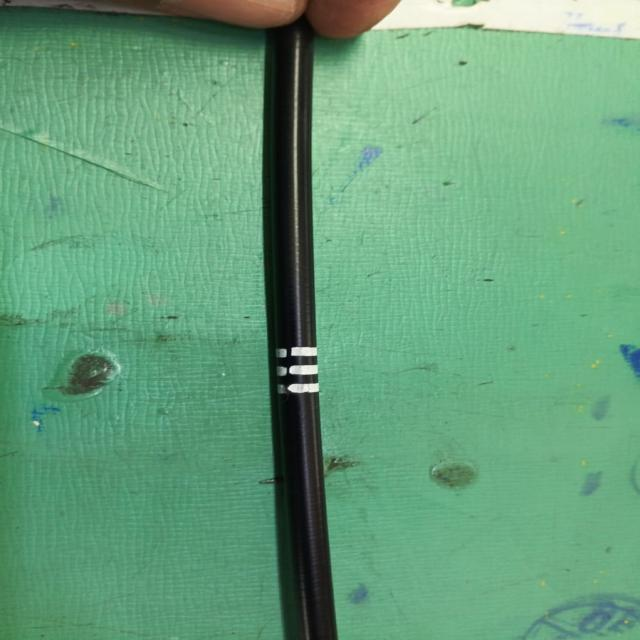white: (272, 346, 321, 397)
